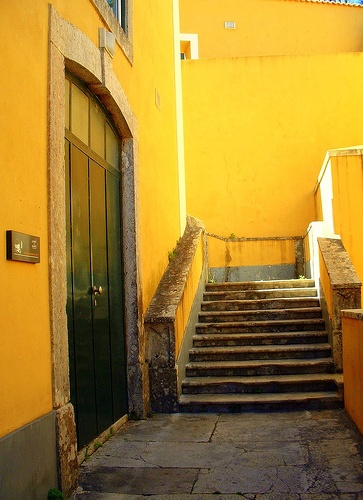stairs_up: (184, 278, 339, 412)
